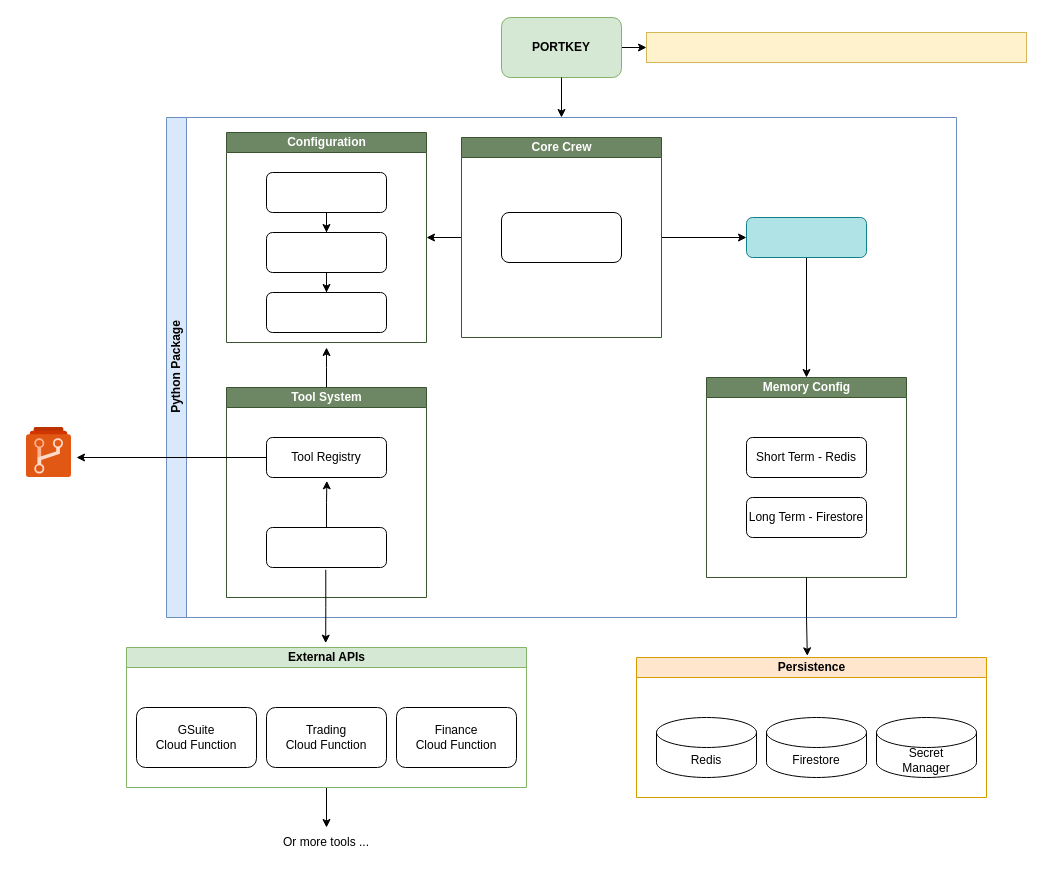
Image size: 1044x875. Some labels were removed from this diagram. The centre of each missing label's shape, as x and y in pixels:
API Tool Wrapper: the point at 326,547
Environment: the point at 326,312
Hot Reload: the point at 326,252
https://portkey.ai/docs/integrations/agents/crewai: the point at 836,47
Interface: the point at 561,237
Local Cache: the point at 806,237
Tool Source: the point at 48,452
YAML Loader: the point at 326,192
